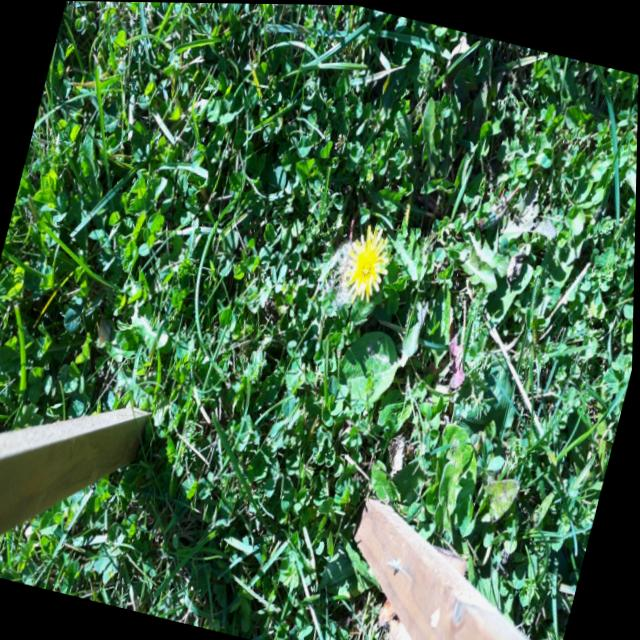base: (346, 190, 374, 225)
flower: (342, 221, 399, 304)
